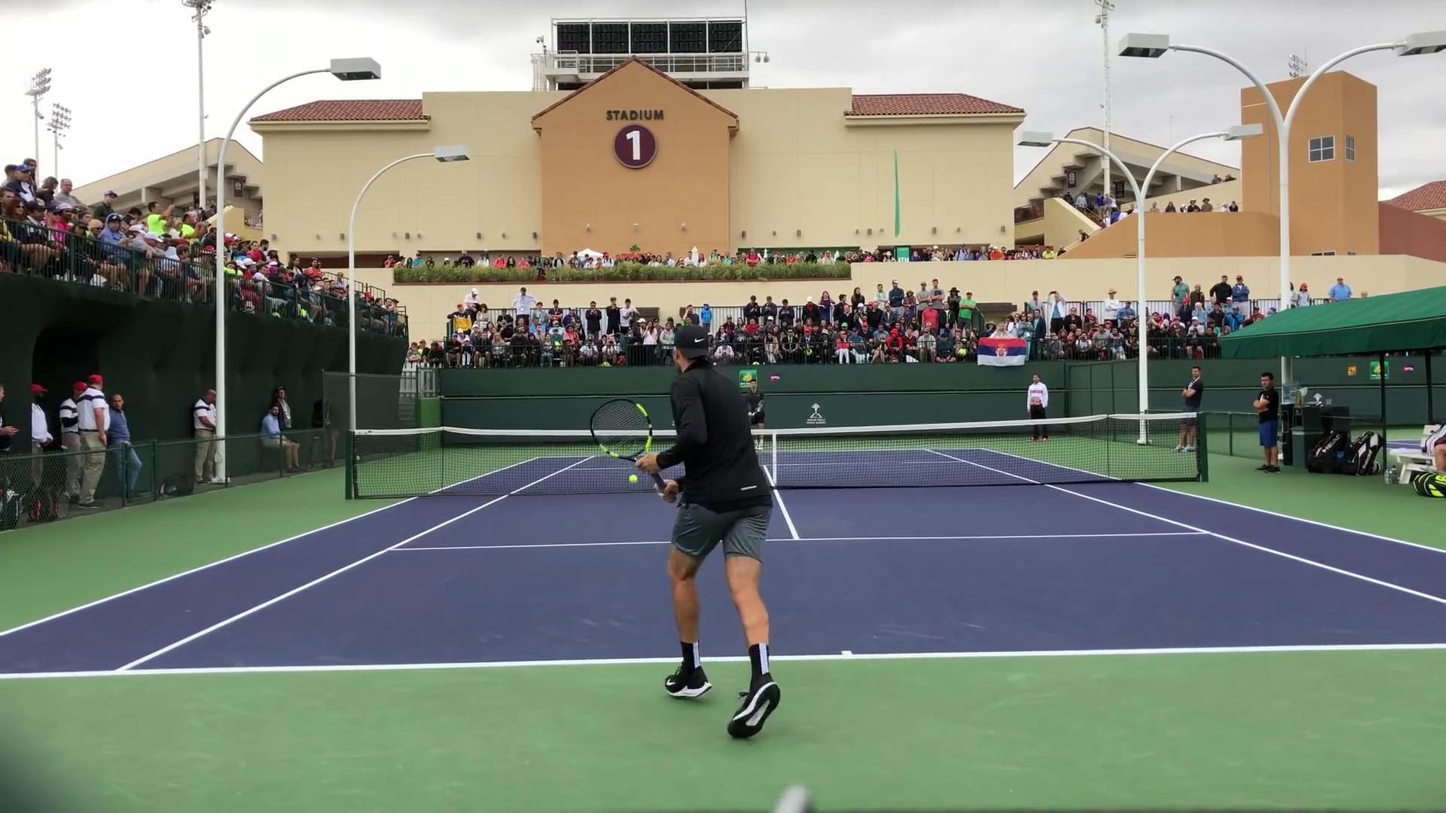ball: (627, 473, 638, 484)
